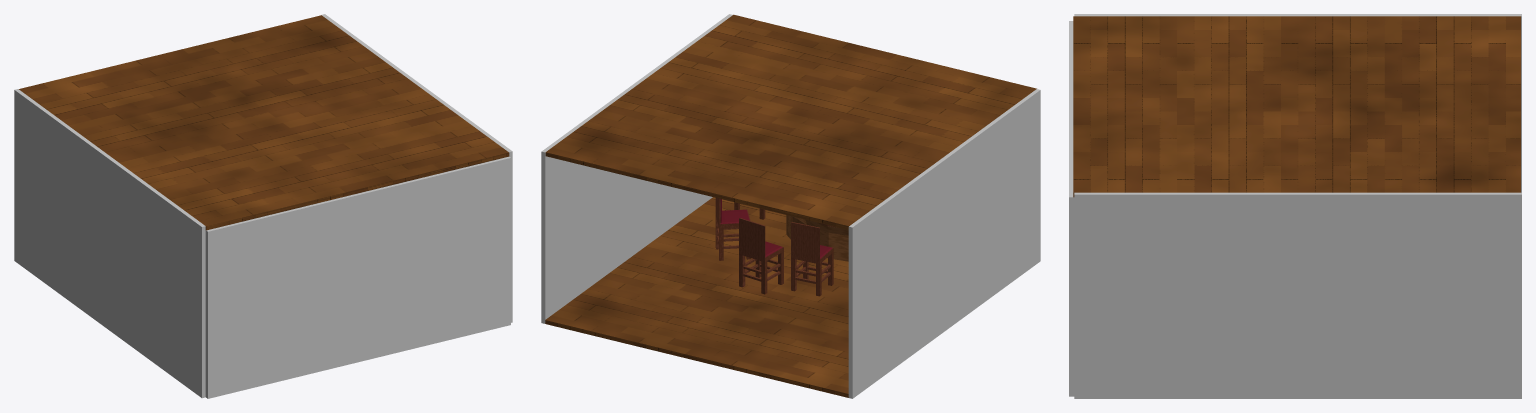
Rendered from SpeakEasy1_3.fbx.
The picture shows the model from 3 angles, left to right: view 1: azimuth 30°, elevation 25°; view 2: azimuth 150°, elevation 25°; view 3: azimuth 270°, elevation 25°; orthographic projection. The views are drawn at different scales.
Visible parts, largest first — view 1: Ceiling.005, SideWall1.030, SideWall1.028, SideWall1.029; view 2: Ceiling.005, SideWall1.028, Ground.006, SideWall1.029, Chair.047, Chair.049, Counter.003, Chair.051; view 3: SideWall1.029, Ceiling.005, SideWall1.030, SideWall1.028.
Part boxes in pixels (bbox=[...]): Ceiling.005: bbox=[19, 15, 509, 230]; SideWall1.030: bbox=[205, 156, 510, 398]; SideWall1.028: bbox=[14, 89, 205, 398]; SideWall1.029: bbox=[321, 14, 512, 322]; Ceiling.005: bbox=[545, 14, 1036, 229]; SideWall1.028: bbox=[848, 89, 1040, 398]; Ground.006: bbox=[545, 197, 848, 397]; SideWall1.029: bbox=[541, 14, 732, 323]; Chair.047: bbox=[739, 218, 783, 294]; Chair.049: bbox=[791, 222, 833, 296]; Counter.003: bbox=[786, 215, 848, 261]; Chair.051: bbox=[715, 198, 751, 260]; SideWall1.029: bbox=[1074, 192, 1521, 398]; Ceiling.005: bbox=[1073, 16, 1520, 197]; SideWall1.030: bbox=[1069, 21, 1074, 396]; SideWall1.028: bbox=[1074, 14, 1521, 192].
Bounding box in the file's own units: 517 × 272 × 547.
